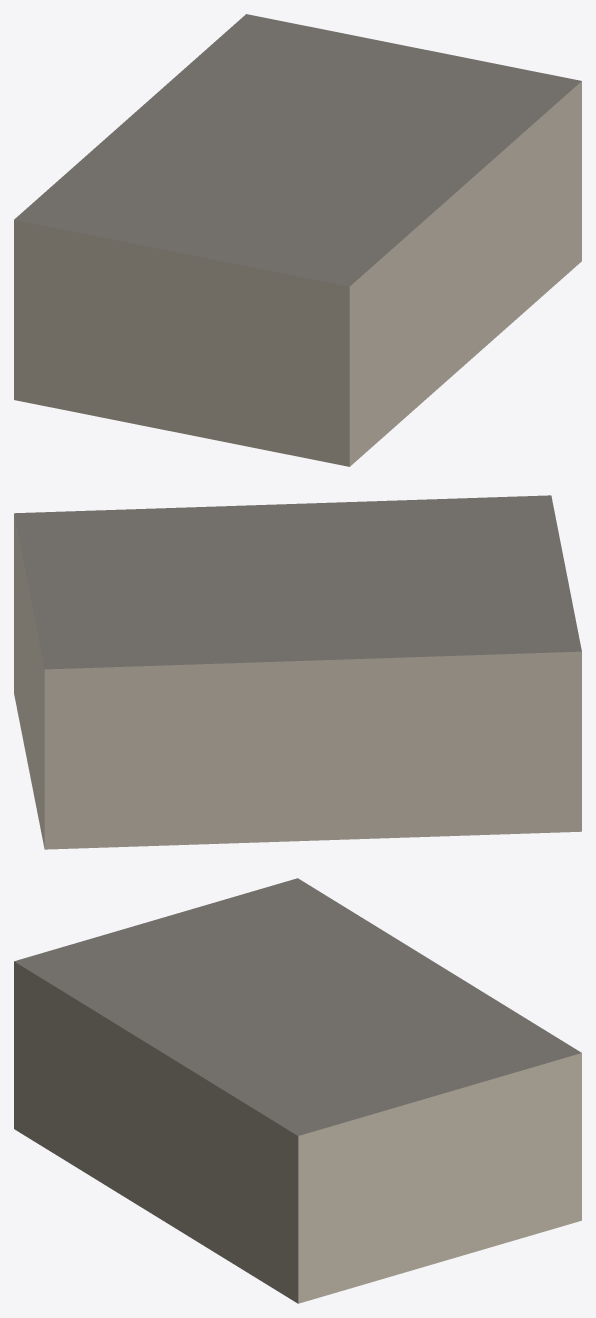
The picture shows the model from 3 angles, top to bottom: view 1: azimuth 30°, elevation 25°; view 2: azimuth 150°, elevation 25°; view 3: azimuth 270°, elevation 25°; orthographic projection. The views are drawn at different scales.
Visible parts, largest first — view 1: HP-w1287055054; view 2: HP-w1287055054; view 3: HP-w1287055054.
Part boxes in pixels (bbox=[...]): HP-w1287055054: bbox=[14, 14, 581, 466]; HP-w1287055054: bbox=[14, 495, 581, 849]; HP-w1287055054: bbox=[14, 878, 581, 1303].
Bounding box in the file's own units: 59.37 × 18 × 55.25.
